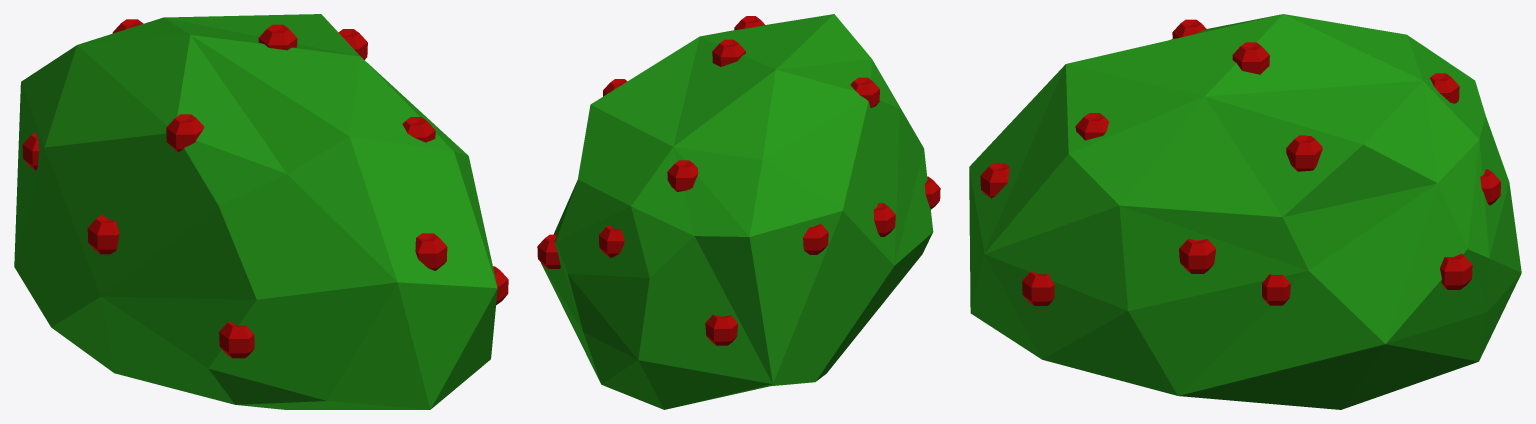
File: berry bush 2.fbx
3 views of the same model, side by side, from view 1: azimuth 30°, elevation 25°; view 2: azimuth 150°, elevation 25°; view 3: azimuth 270°, elevation 25° (orthographic). The views are drawn at different scales.
Visible parts, largest first — view 1: berry bush 2; view 2: berry bush 2; view 3: berry bush 2.
Boxes of the visible parts, x1,y1,x2,y2 form: berry bush 2: (14, 14, 508, 409); berry bush 2: (537, 14, 940, 409); berry bush 2: (969, 14, 1521, 409).
Bounding box in the file's own units: 89.38 × 87.65 × 133.
